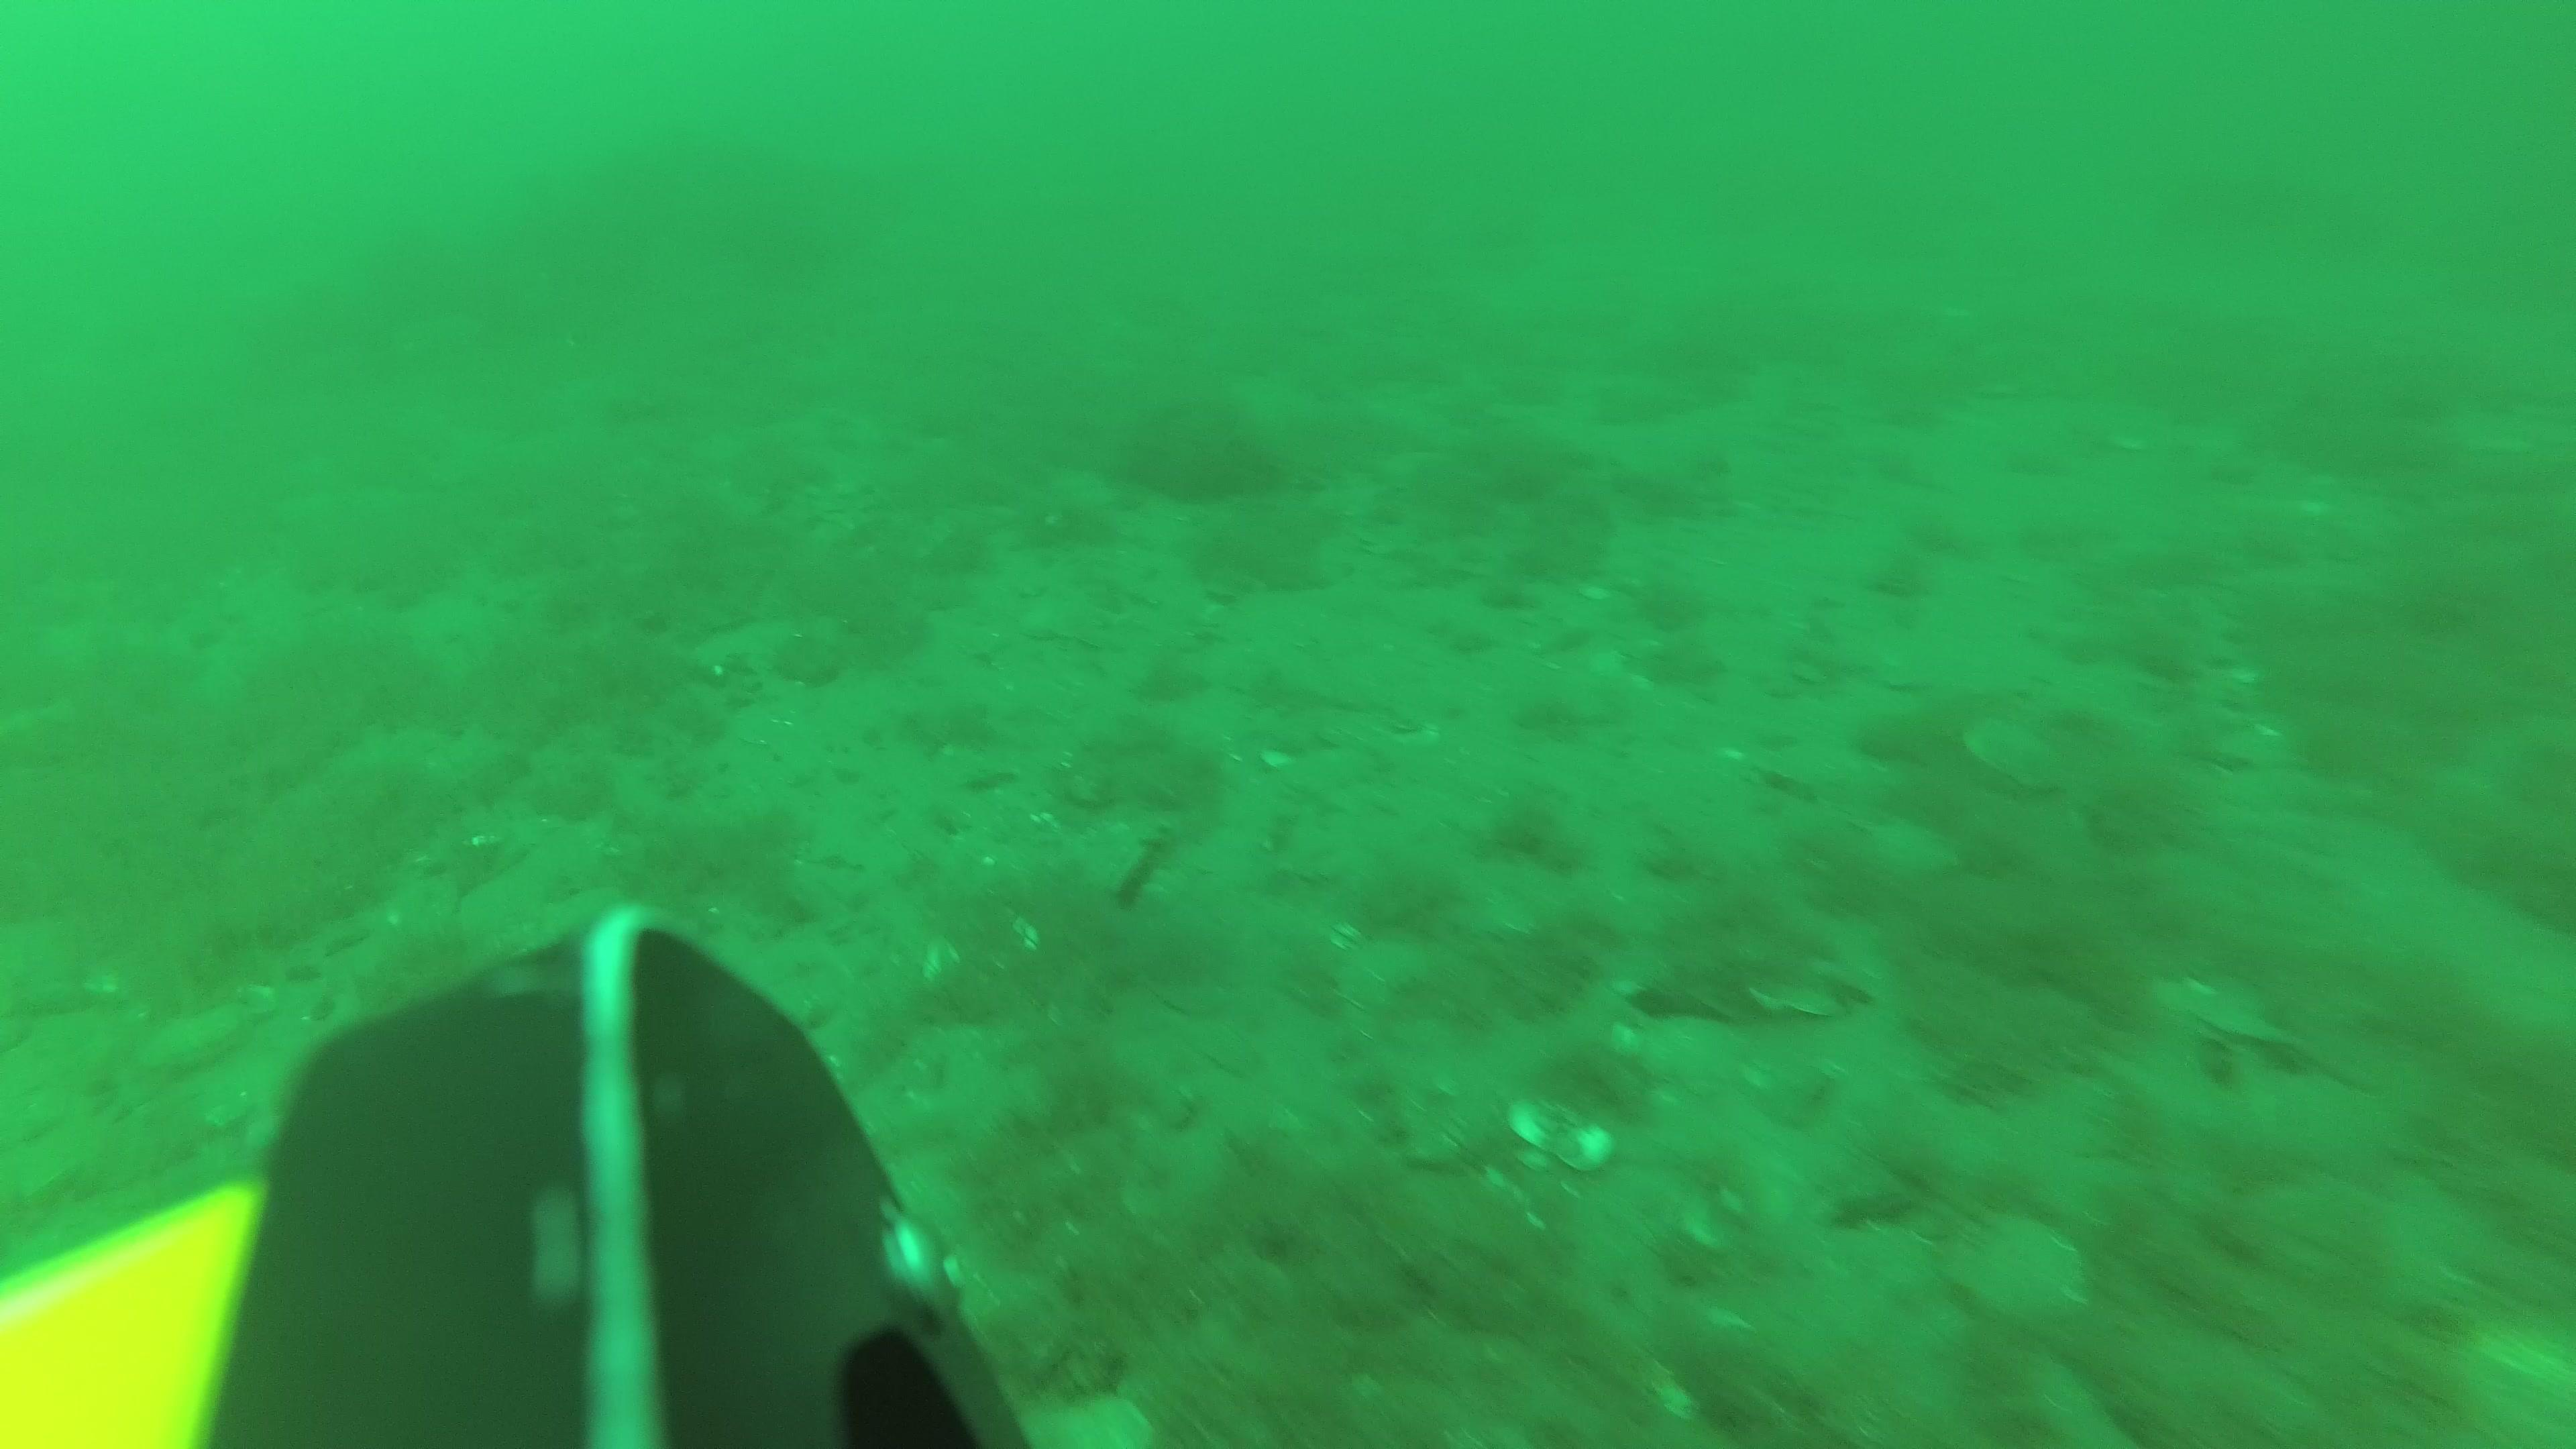scallop: (1932, 1210, 2097, 1327), (1626, 1005, 1753, 1102), (1955, 713, 2072, 798), (2187, 978, 2302, 1058)
